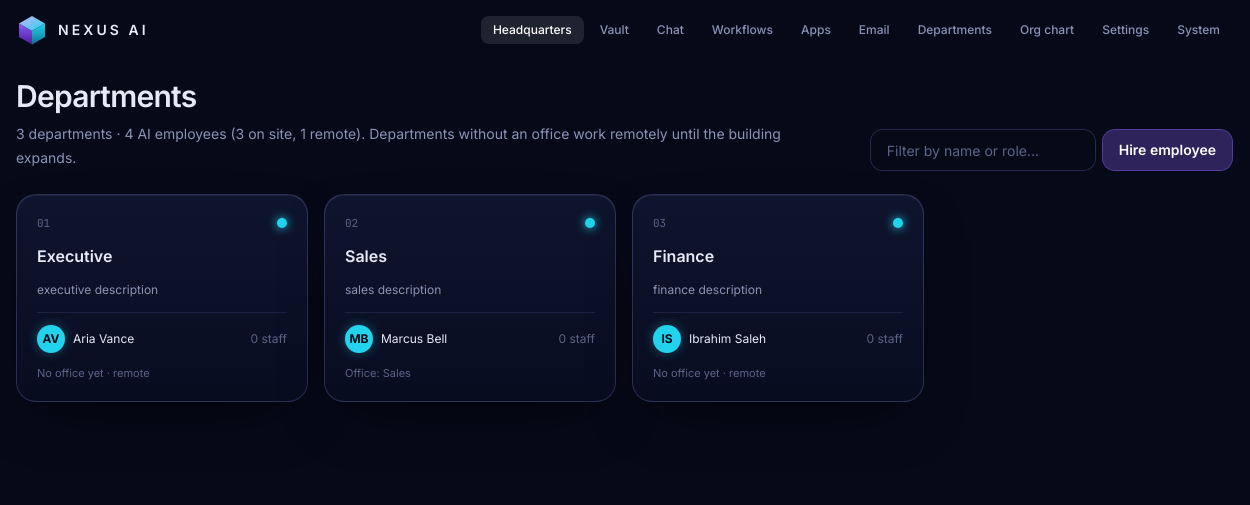
Scenario: DepartmentDirectory › lists departments with directors, headcount and office
expect the link "Sales" shows "Marcus Bell": met, box [324,194,616,402]
expect the link "Sales" shows "Office: Sales": met, box [324,194,616,402]
Type "analyst" into the search field named "Filter departments" at (983, 150), box [871,130,1095,170]
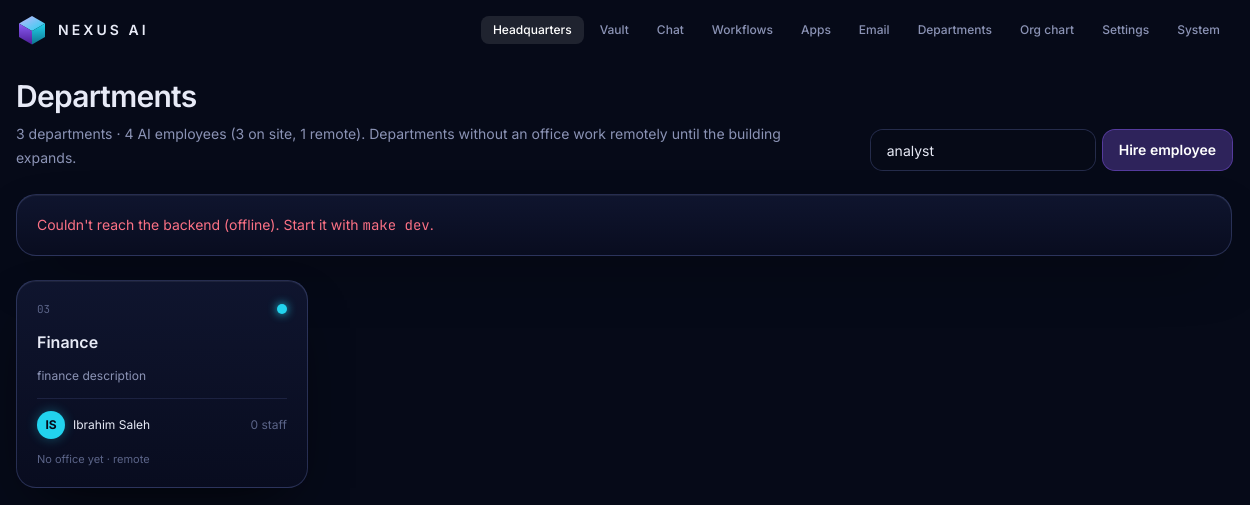
expect the link "Finance" is shown: met, box [16,280,308,488]
expect the link "Sales" is gone: met
